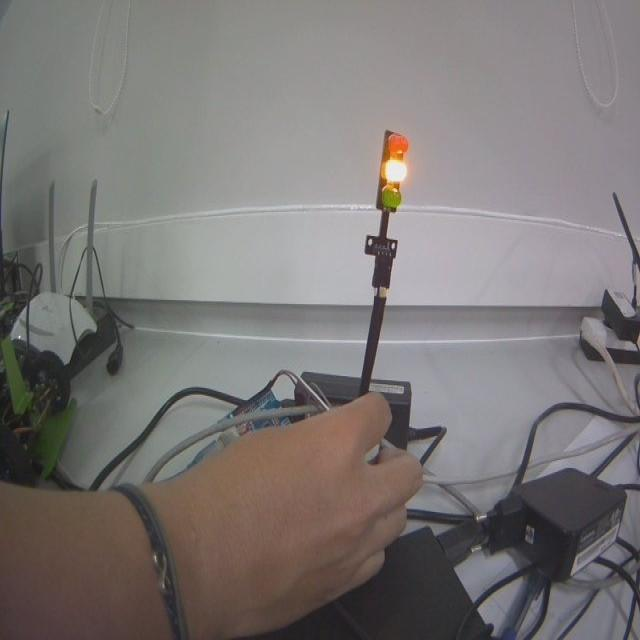Lampu Kuning: (377, 129, 410, 212)
